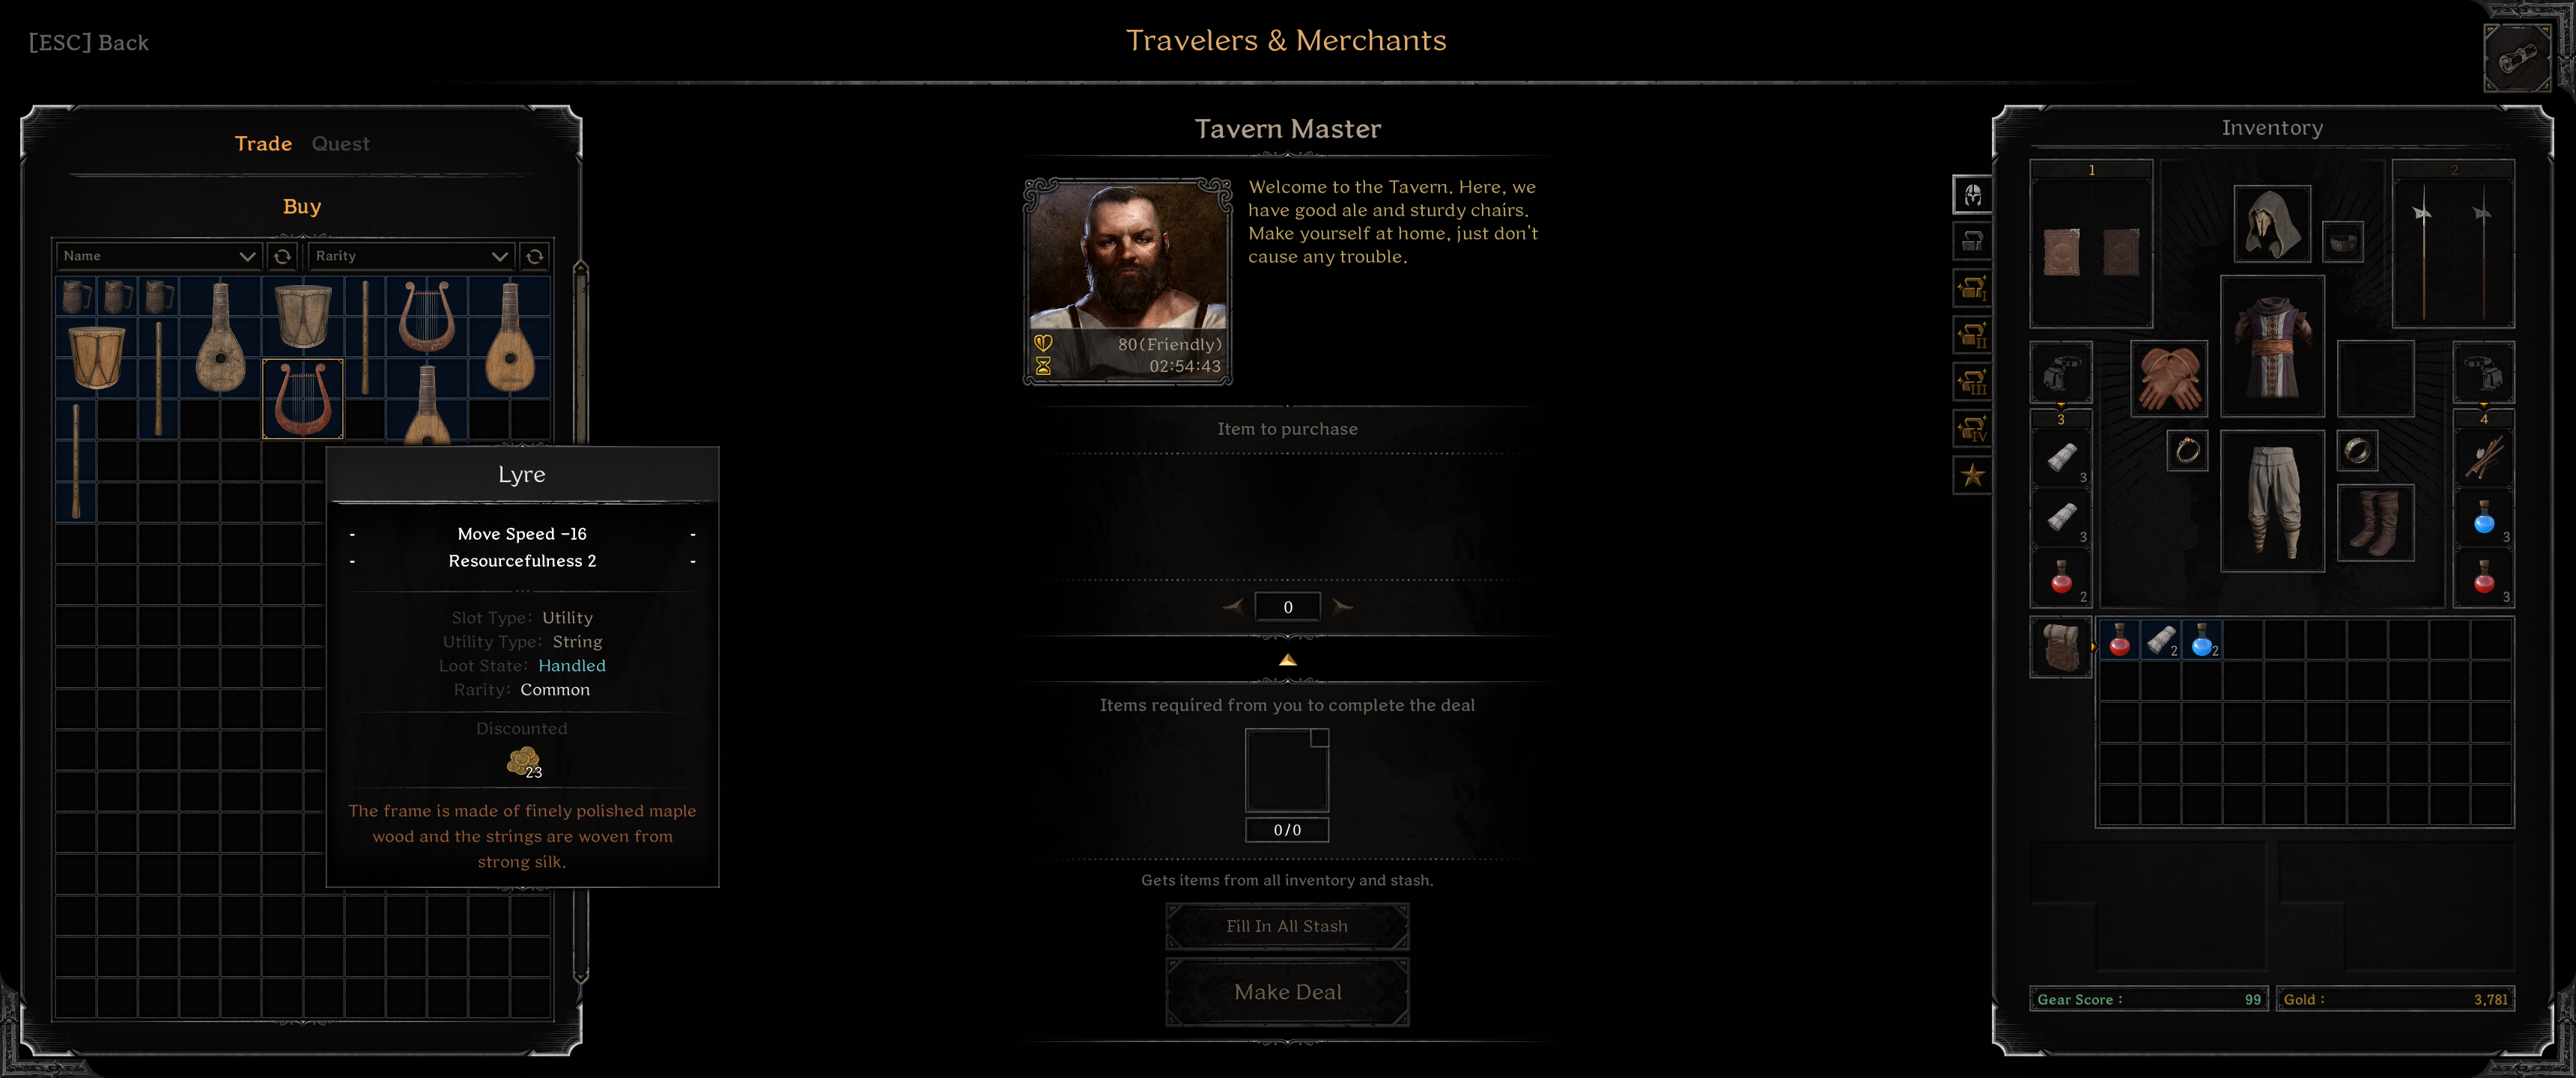Tooltip: (324, 444, 721, 889)
